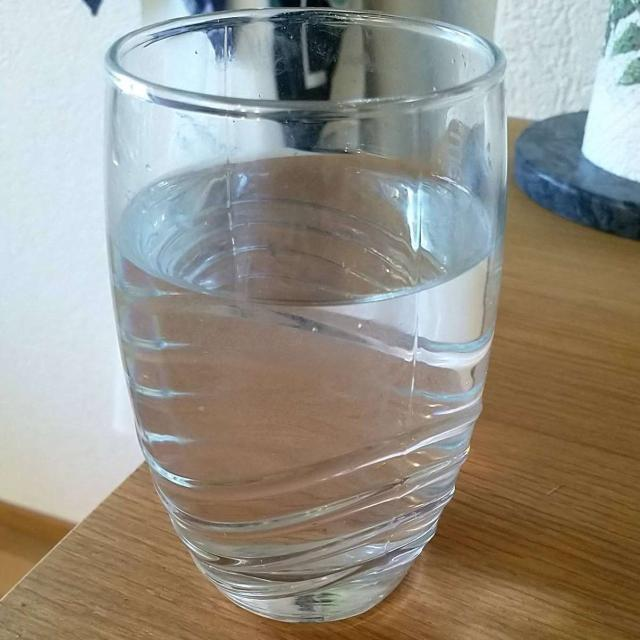water: (113, 141, 492, 622)
